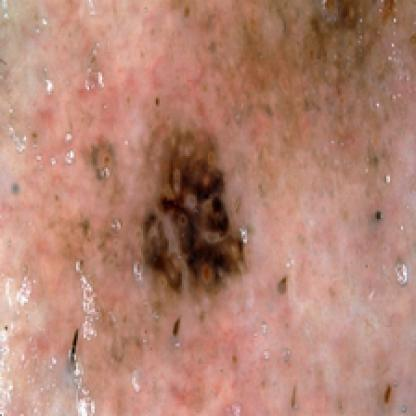malignant: (126, 123, 260, 299)
